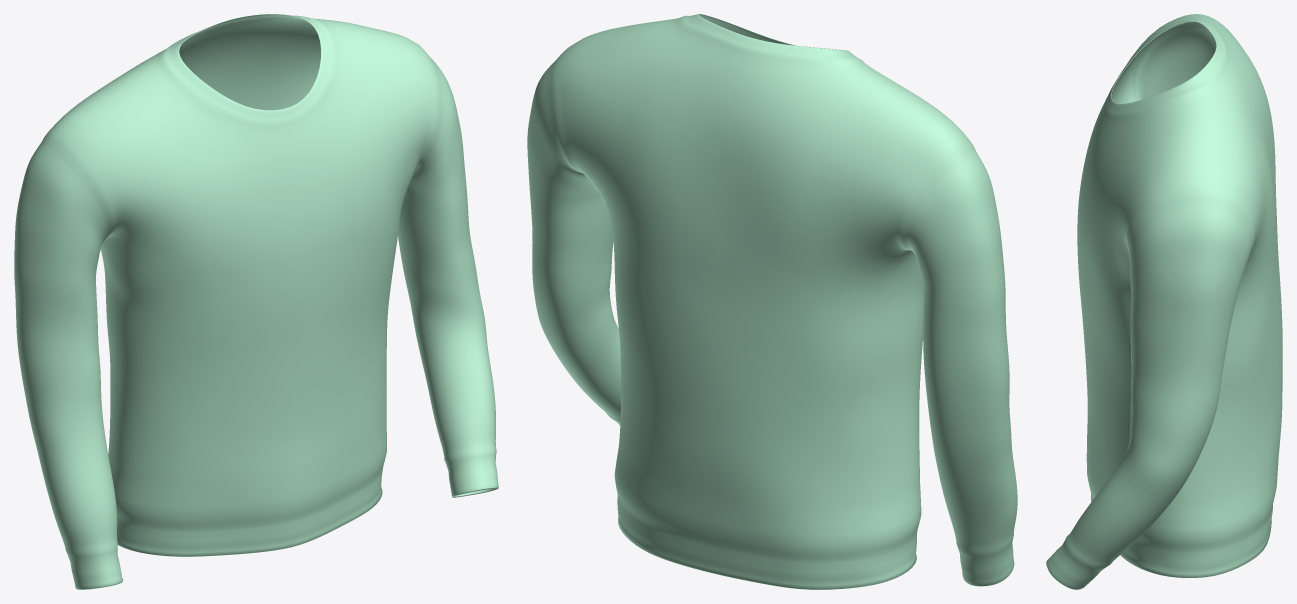
File: 320-all-over-print-sweatshirt-300822.glb
The picture shows the model from 3 angles, left to right: view 1: azimuth 30°, elevation 25°; view 2: azimuth 150°, elevation 25°; view 3: azimuth 270°, elevation 25°; orthographic projection. The views are drawn at different scales.
Parts seen in each view (by area): view 1: Plane.009; view 2: Plane.009; view 3: Plane.009.
Part boxes in pixels (x1,y1,x2,y2): Plane.009: [14, 14, 498, 589]; Plane.009: [527, 14, 1017, 589]; Plane.009: [1046, 14, 1282, 589].
Size of the model in its own units: 0.6388 by 0.6817 by 0.301.
1 material, 1 textured.
